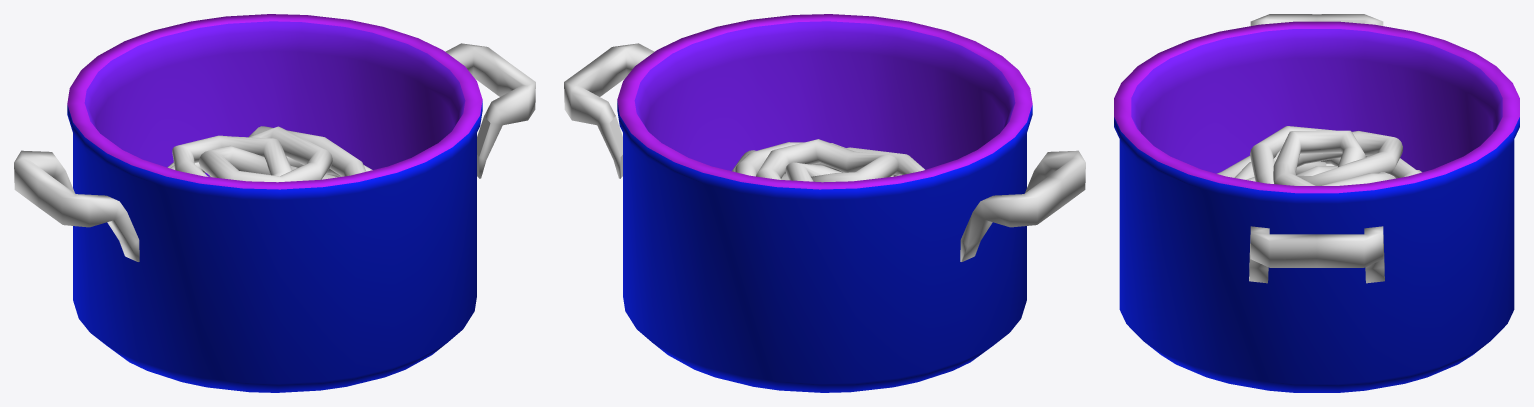
The model's file is Noodles_-_Pot_Cooked.fbx.
3 renders of one model, left to right at view 1: azimuth 30°, elevation 25°; view 2: azimuth 150°, elevation 25°; view 3: azimuth 270°, elevation 25°, orthographic.
Parts seen in each view (by area): view 1: Cylinder.002, Cylinder.004, Noodles.004; view 2: Cylinder.002, Cylinder.004, Noodles.004; view 3: Cylinder.002, Noodles.004, Cylinder.004.
Boxes of the visible parts, x1,y1,x2,y2 form: Cylinder.002: (67, 14, 482, 392); Cylinder.004: (14, 43, 535, 261); Noodles.004: (167, 126, 372, 182); Cylinder.002: (617, 14, 1032, 392); Cylinder.004: (564, 43, 1085, 261); Noodles.004: (732, 139, 924, 182); Cylinder.002: (1114, 21, 1519, 392); Noodles.004: (1217, 126, 1421, 185); Cylinder.004: (1249, 14, 1384, 283).
Size of the model in its own units: 83.38 by 35.99 by 62.94.
